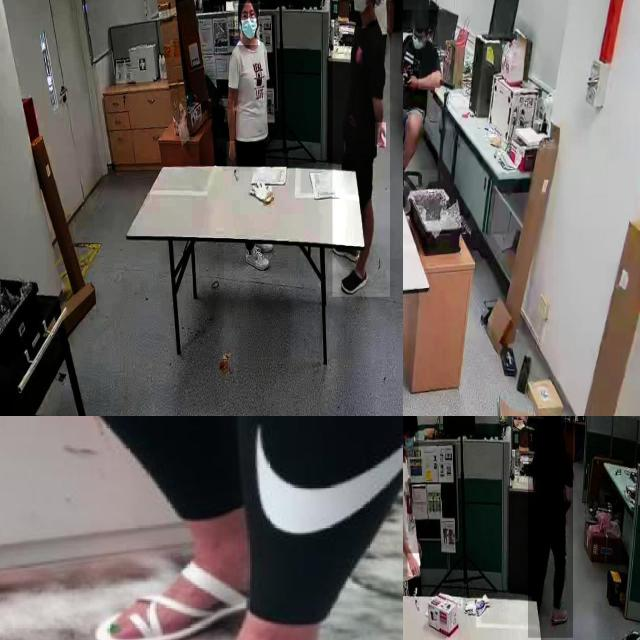face_mask: (234, 3, 260, 46), (348, 0, 375, 27), (403, 426, 419, 458)
hand_noglove: (407, 554, 421, 578), (226, 141, 238, 167), (375, 122, 387, 148), (405, 71, 419, 93), (417, 538, 423, 557)
head_nohelmet: (412, 10, 429, 29), (403, 416, 417, 426), (235, 0, 260, 5)
person: (332, 0, 390, 297), (528, 416, 573, 638), (222, 0, 275, 172), (403, 9, 437, 170), (403, 416, 433, 593)
shoes: (244, 241, 269, 270)
